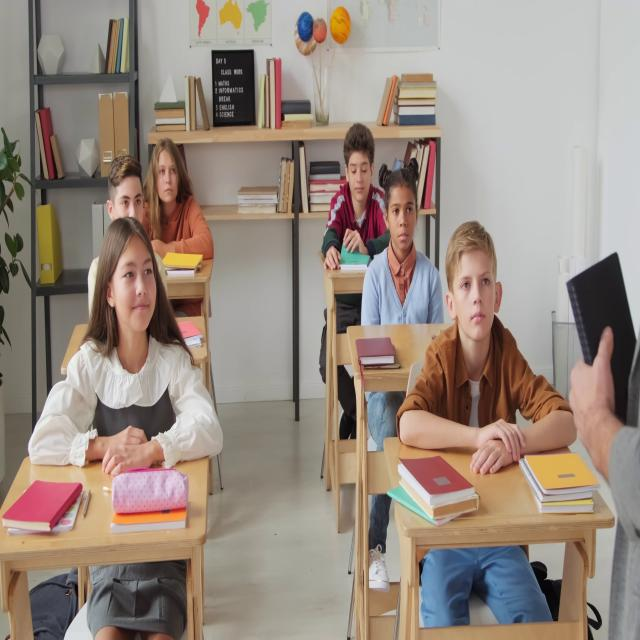listening: (398, 228, 576, 630), (27, 221, 225, 465), (360, 168, 442, 332), (88, 157, 168, 318), (144, 138, 216, 312)
reading: (322, 120, 381, 273)
